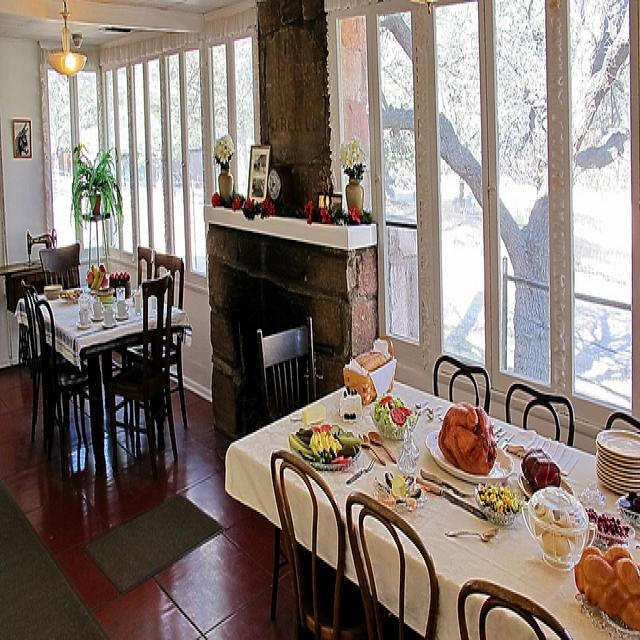chair: (270, 453, 364, 634), (106, 278, 180, 482), (344, 491, 441, 640), (124, 252, 186, 411), (35, 299, 89, 469), (256, 315, 317, 422), (457, 581, 566, 633), (504, 377, 577, 445), (433, 356, 490, 414), (23, 279, 40, 439), (38, 248, 81, 289), (606, 408, 640, 431), (137, 246, 154, 289)
dining table: (225, 381, 640, 640), (13, 263, 185, 366)
